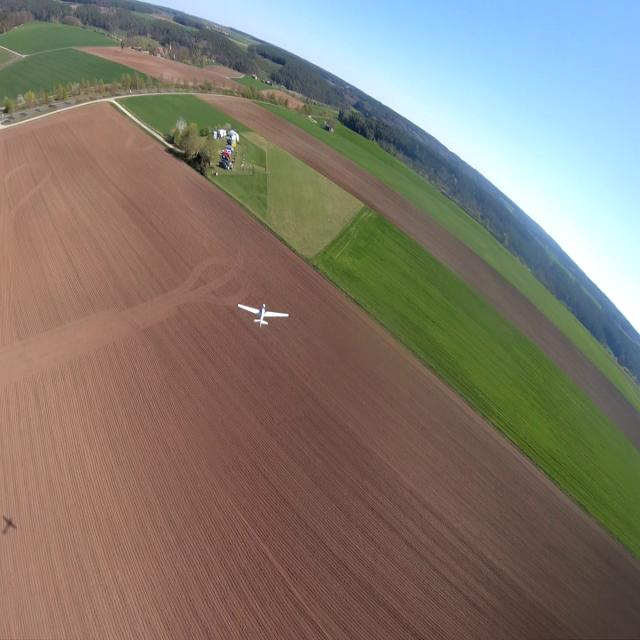iha: (235, 299, 288, 328)
